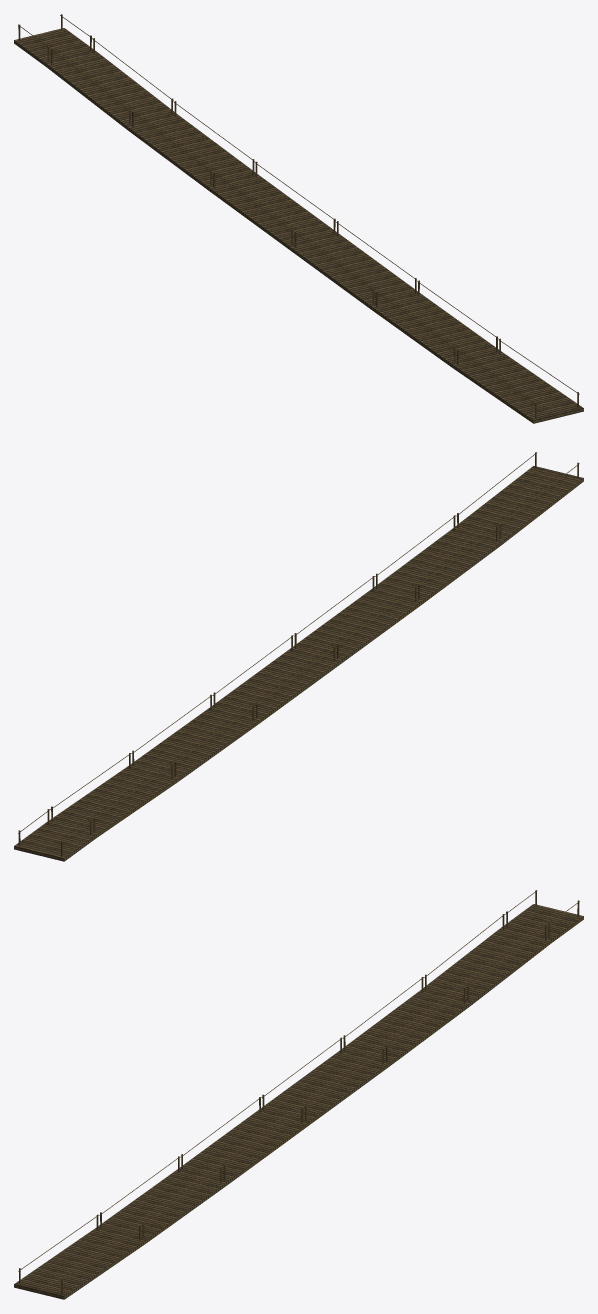
The model's file is thm_endr_village_tree_catwlk_64m_s01_l0.fbx.
The picture shows the model from 3 angles, top to bottom: view 1: azimuth 30°, elevation 25°; view 2: azimuth 150°, elevation 25°; view 3: azimuth 330°, elevation 25°; orthographic projection.
Parts seen in each view (by area): view 1: mesh_node; view 2: mesh_node; view 3: mesh_node.
Boxes of the visible parts, box(x1,y1,x2,y2) form: mesh_node: box(14, 14, 583, 423); mesh_node: box(14, 452, 583, 861); mesh_node: box(14, 890, 583, 1299).
Size of the model in its own units: 3.58 by 1.6 by 64.
